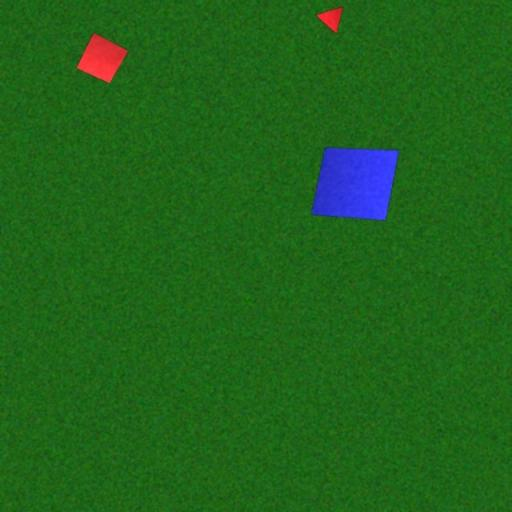BLUE_SQUARE: (310, 146, 400, 222)
RED_SQUARE: (75, 32, 130, 84)
